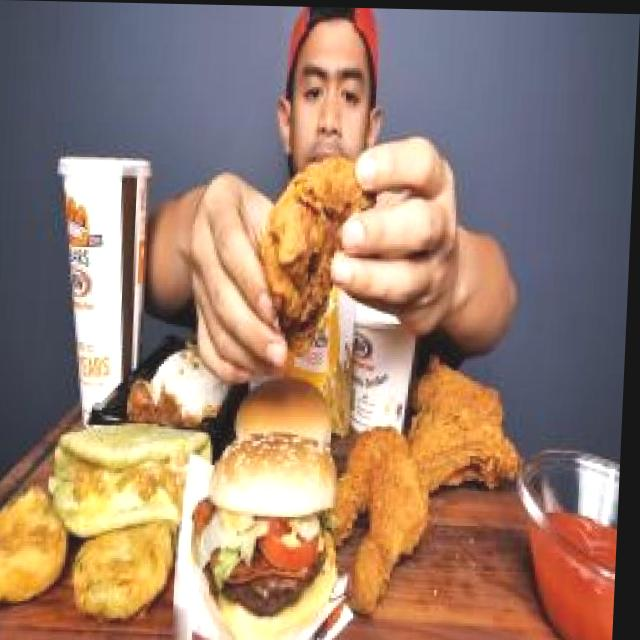AW cola: (46, 151, 163, 406)
black pepper rice bowl: (122, 322, 244, 432)
cheese burger: (240, 364, 342, 444)
fried chicken: (329, 351, 526, 617), (256, 150, 393, 350)
mango chicken pocket: (46, 406, 224, 554)
mozza burger: (193, 427, 350, 640)
perkedel: (70, 517, 182, 626), (0, 470, 79, 615)
